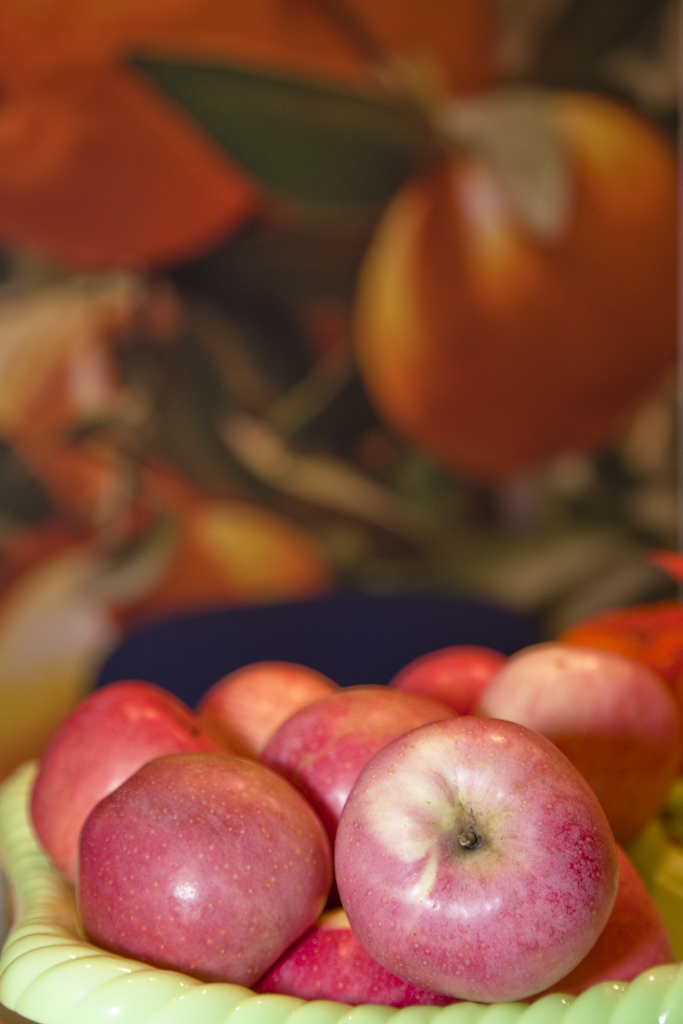Apple: (24, 609, 682, 1000)
